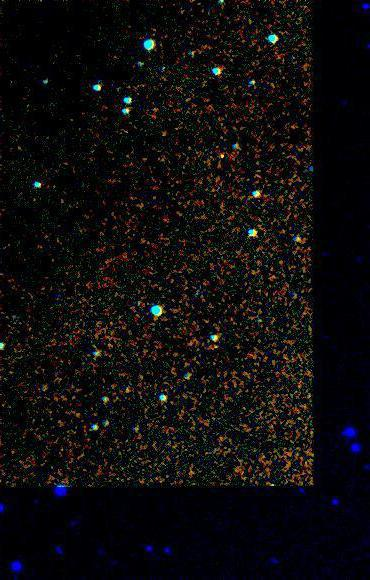star: (209, 141, 239, 171)
